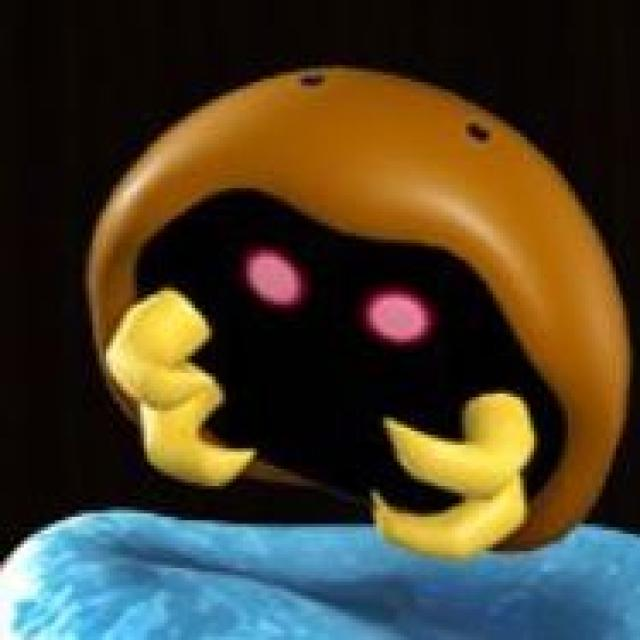Kabuto: (82, 149, 619, 573)
